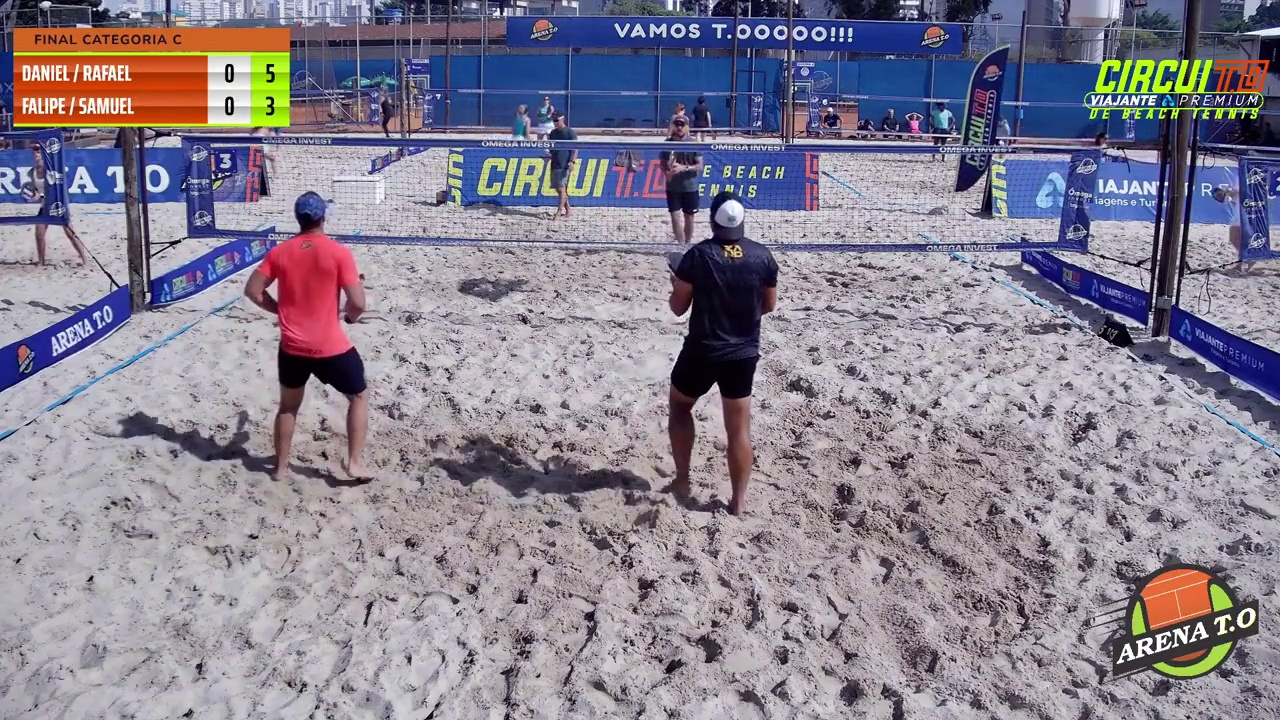court_line: (638, 0, 793, 437)
